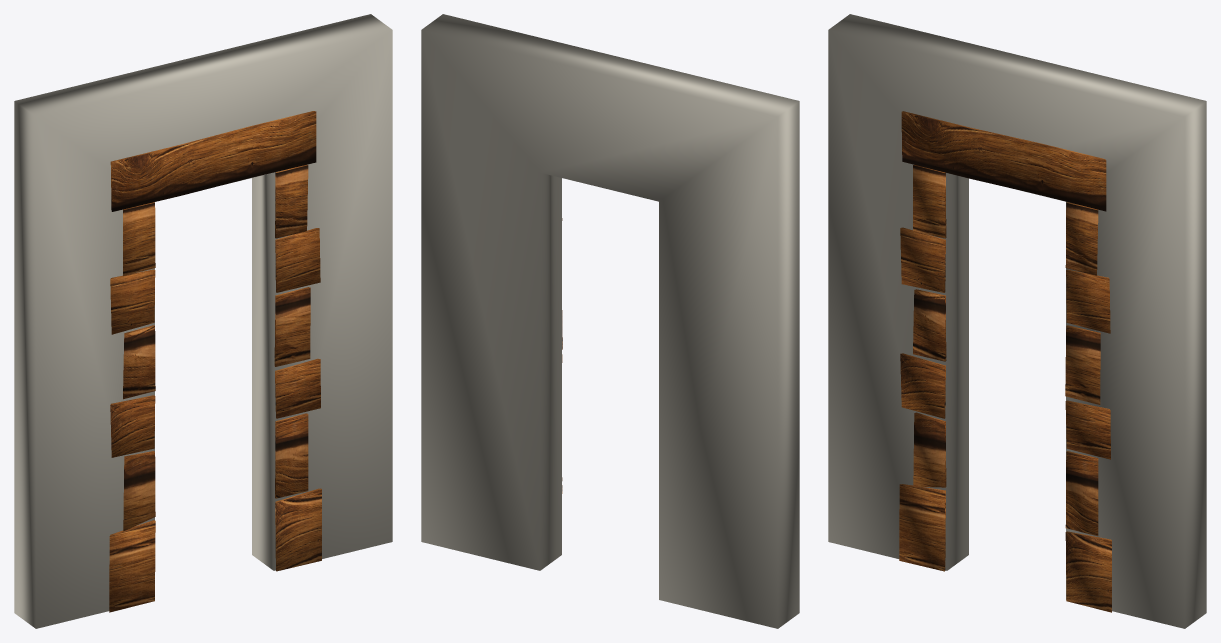
Rendered from white doorway with wood.glb.
The picture shows the model from 3 angles, left to right: view 1: azimuth 30°, elevation 25°; view 2: azimuth 150°, elevation 25°; view 3: azimuth 330°, elevation 25°; orthographic projection.
Visible parts, largest first — view 1: Rectangle Door Wall.001; view 2: Rectangle Door Wall.001; view 3: Rectangle Door Wall.001.
Boxes of the visible parts, x1,y1,x2,y2 form: Rectangle Door Wall.001: (14, 14, 392, 628); Rectangle Door Wall.001: (421, 14, 799, 628); Rectangle Door Wall.001: (828, 14, 1206, 628).
Bounding box in the file's own units: 2 × 2.75 × 0.2223.
Materials: 2 (1 with a texture image).
